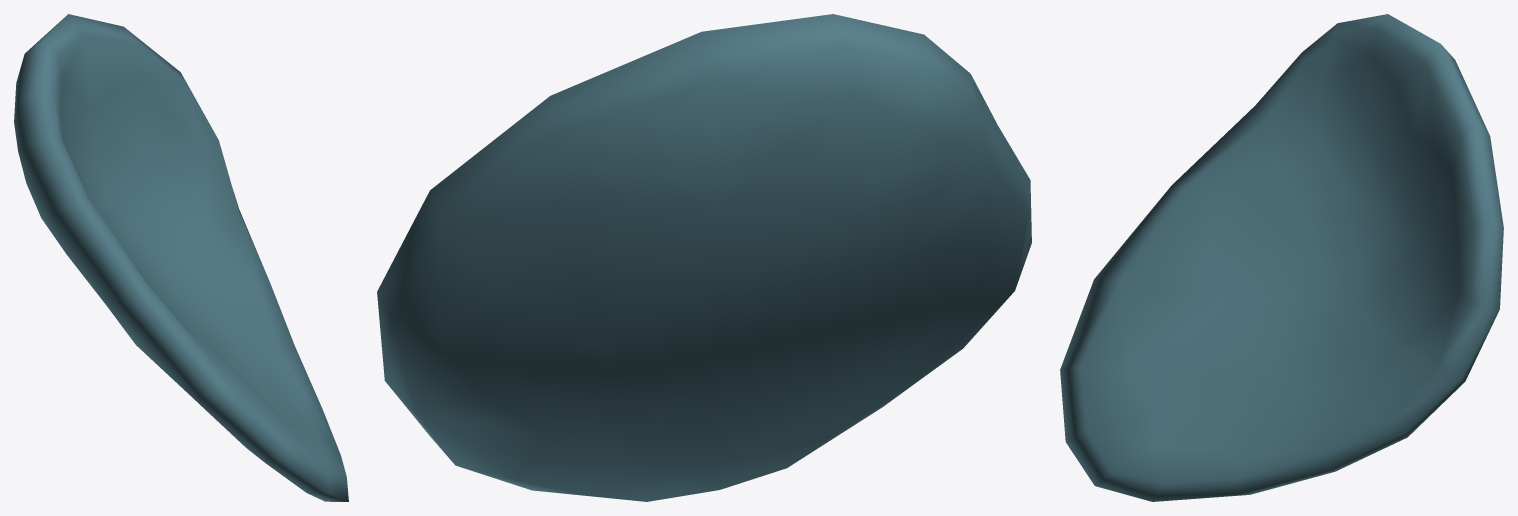
File: Abductor_hallucis_on_proximal_phalanx_of_1st_finger.l_Generated.glb
3 renders of one model, left to right at view 1: azimuth 30°, elevation 25°; view 2: azimuth 150°, elevation 25°; view 3: azimuth 270°, elevation 25°, orthographic. The views are drawn at different scales.
Visible parts, largest first — view 1: Abductor_hallucis_on_proximal_phalanx_of_1st_finger.l_Genera; view 2: Abductor_hallucis_on_proximal_phalanx_of_1st_finger.l_Genera; view 3: Abductor_hallucis_on_proximal_phalanx_of_1st_finger.l_Genera.
Boxes of the visible parts, x1=… form: Abductor_hallucis_on_proximal_phalanx_of_1st_finger.l_Genera: x1=14, y1=14, x2=348, y2=501; Abductor_hallucis_on_proximal_phalanx_of_1st_finger.l_Genera: x1=377, y1=14, x2=1031, y2=501; Abductor_hallucis_on_proximal_phalanx_of_1st_finger.l_Genera: x1=1060, y1=14, x2=1503, y2=501.
Bounding box in the file's own units: 0.00323 × 0.00437 × 0.00438.
